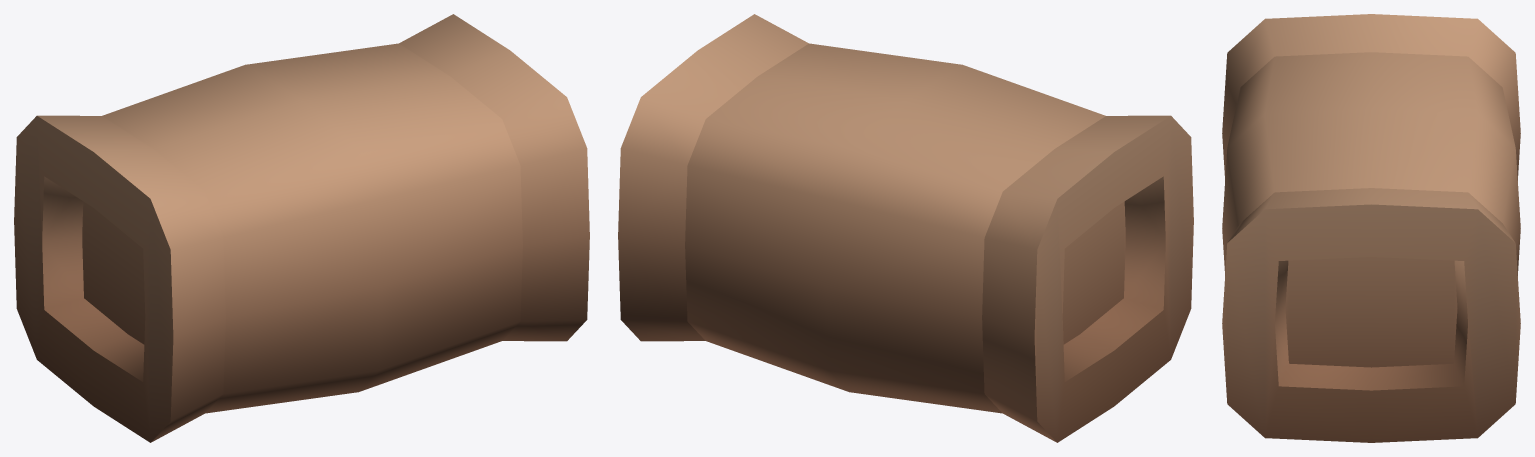
File: hay-bale.glb
3 renders of one model, left to right at view 1: azimuth 30°, elevation 25°; view 2: azimuth 150°, elevation 25°; view 3: azimuth 270°, elevation 25°, orthographic. The views are drawn at different scales.
Visible parts, largest first — view 1: hay-bale; view 2: hay-bale; view 3: hay-bale.
Part boxes in pixels (x1,y1,x2,y2): hay-bale: [14, 14, 589, 442]; hay-bale: [618, 14, 1193, 442]; hay-bale: [1222, 14, 1520, 442].
Bounding box in the file's own units: 0.9422 × 0.5501 × 0.6244.
